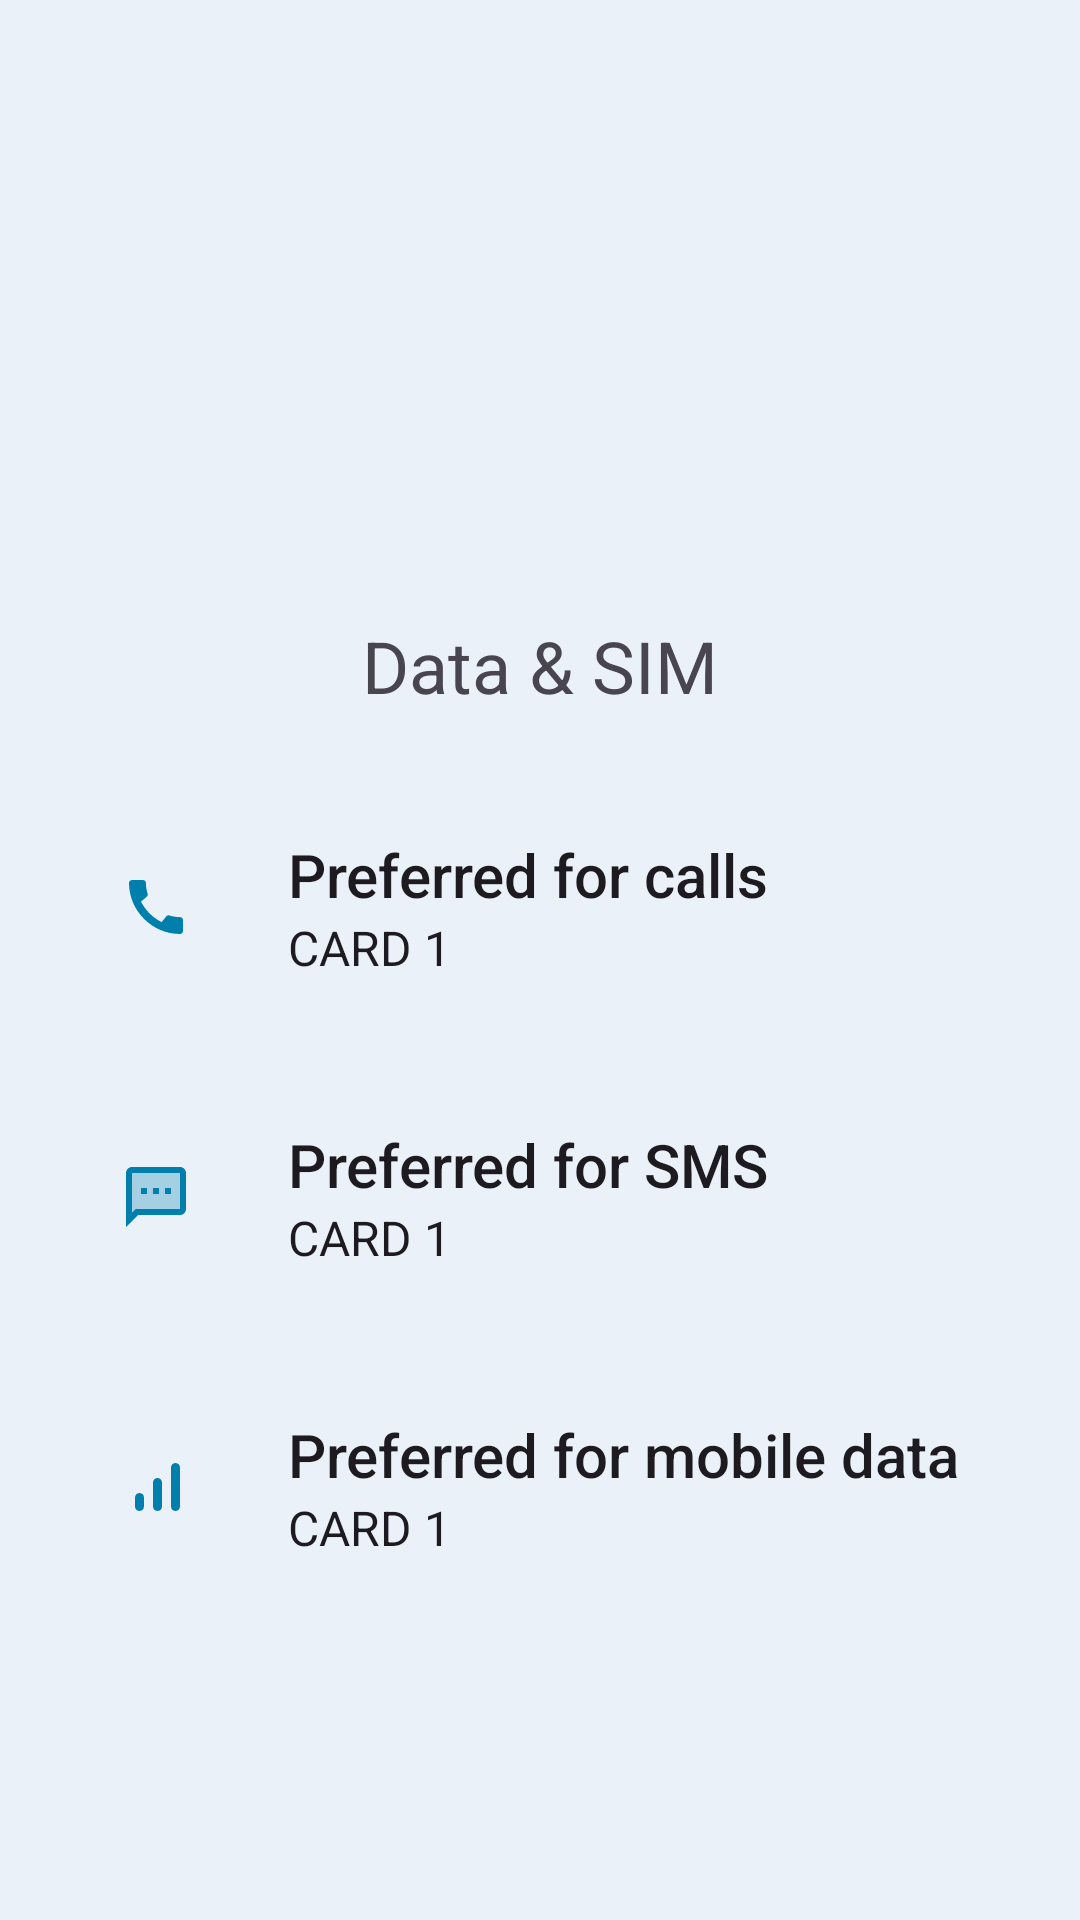

Where to tap for icons on this 1080px x 1920px app screen, as [x,y]:
signal cellular: [157,1487]
